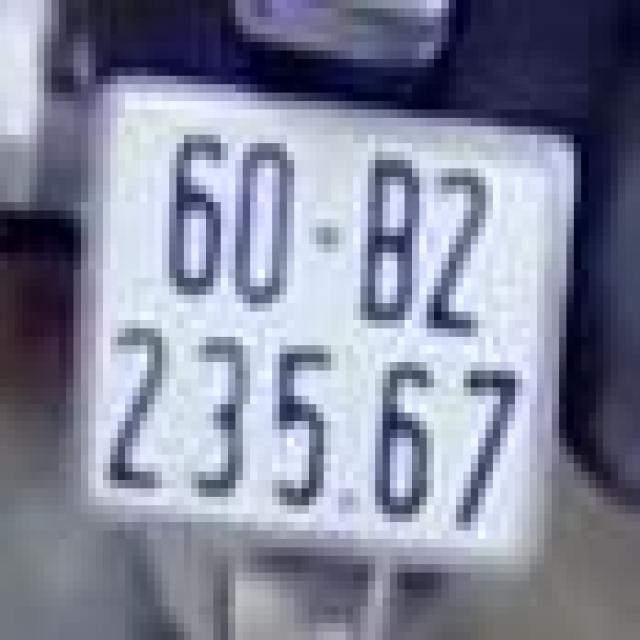0: (228, 135, 302, 328)
2: (431, 156, 496, 349), (100, 316, 166, 492)
3: (188, 324, 246, 501)
5: (261, 333, 335, 518)
6: (155, 114, 228, 307), (368, 345, 441, 531)
7: (460, 332, 526, 534)
B: (349, 127, 423, 346)
